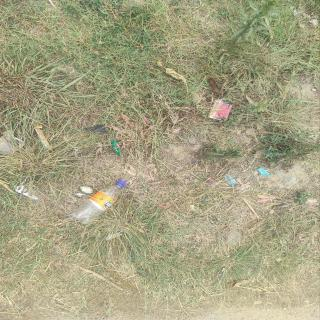Plastic-bottle: (71, 178, 130, 229)
